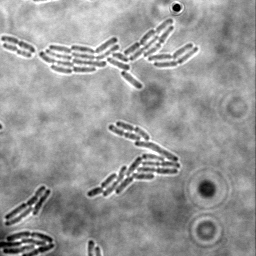Dividing: (0, 34, 37, 53), (2, 41, 33, 58)
Microcolony: (39, 18, 199, 90), (86, 120, 181, 198), (4, 184, 52, 227), (0, 230, 56, 256)
